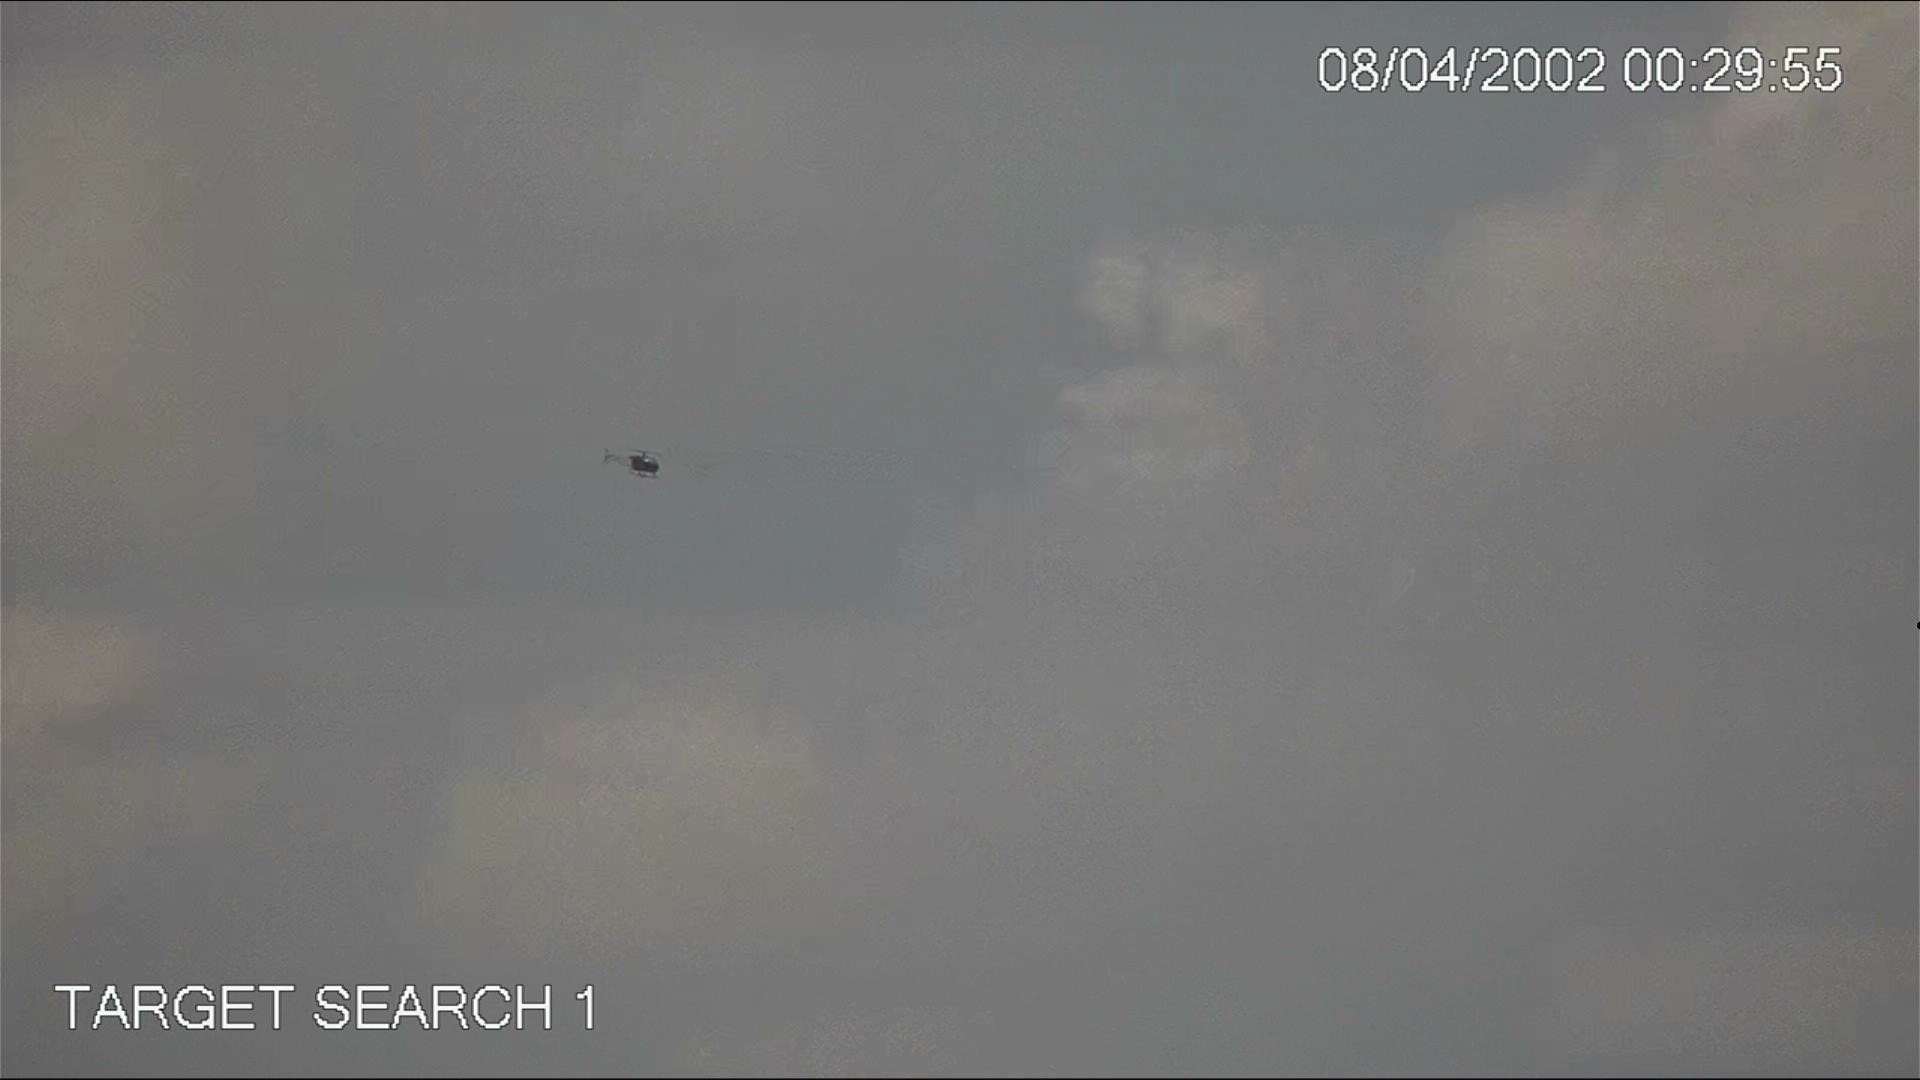SU_30: (600, 442, 673, 487)
